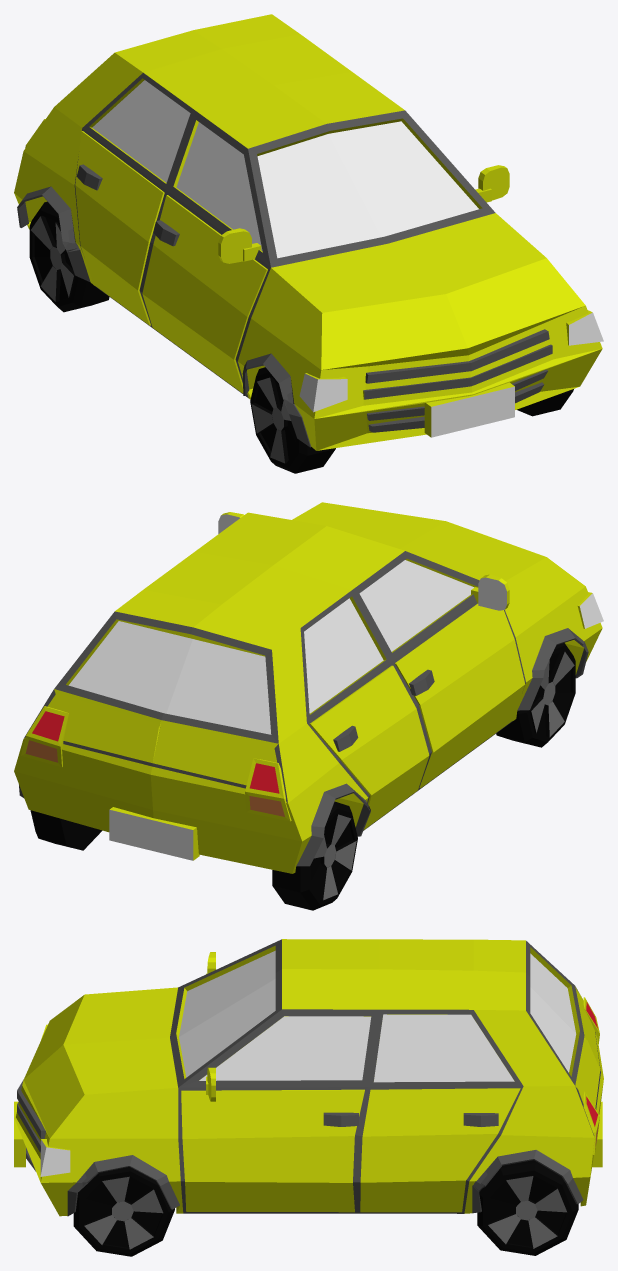
The picture shows the model from 3 angles, top to bottom: view 1: azimuth 30°, elevation 25°; view 2: azimuth 150°, elevation 25°; view 3: azimuth 270°, elevation 25°; orthographic projection. The views are drawn at different scales.
Parts seen in each view (by area): view 1: Body, R_R_Wheel, F_R_Wheel, F_L_Wheel; view 2: Body, R_R_Wheel, F_R_Wheel, R_L_Wheel; view 3: Body, R_L_Wheel, F_L_Wheel.
Boxes of the visible parts, bbox=[...] form: Body: bbox=[14, 14, 603, 450]; R_R_Wheel: bbox=[29, 201, 109, 312]; F_R_Wheel: bbox=[250, 367, 335, 473]; F_L_Wheel: bbox=[517, 389, 573, 416]; Body: bbox=[14, 502, 603, 873]; R_R_Wheel: bbox=[272, 801, 357, 910]; F_R_Wheel: bbox=[496, 643, 575, 747]; R_L_Wheel: bbox=[30, 810, 102, 850]; Body: bbox=[14, 939, 603, 1216]; R_L_Wheel: bbox=[477, 1160, 578, 1255]; F_L_Wheel: bbox=[73, 1167, 174, 1256].
Bounding box in the file's own units: 285 × 222 × 518.
